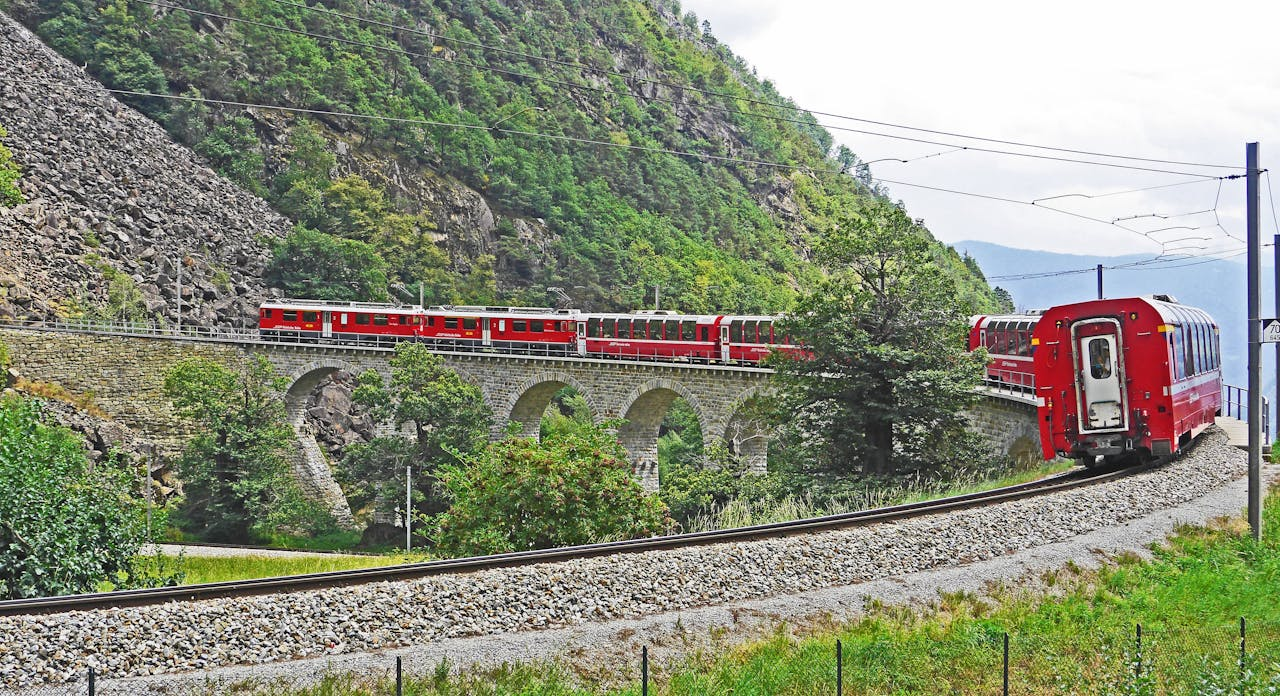train: (229, 244, 1251, 468)
